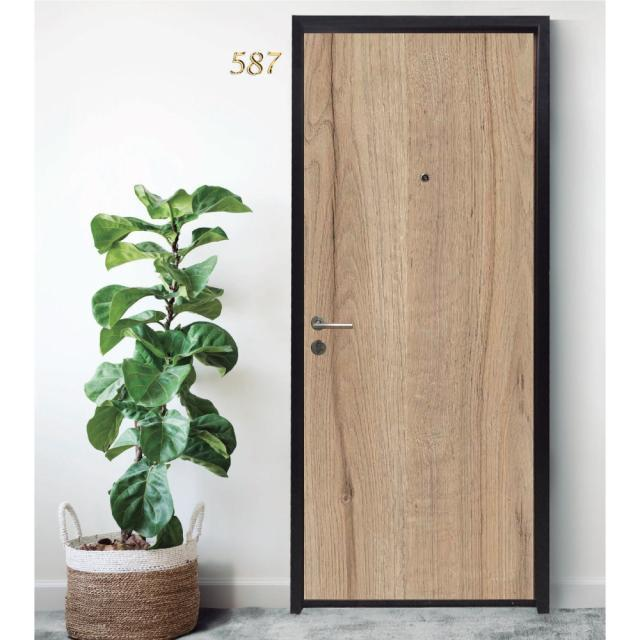door: (292, 16, 546, 611)
